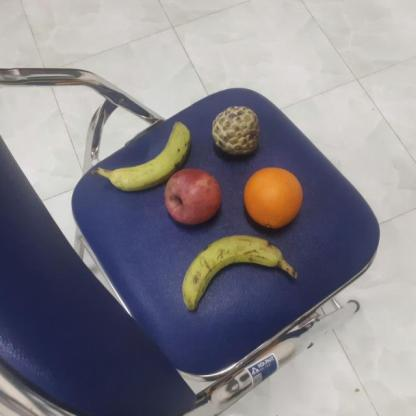annona: (210, 104, 260, 159)
apple: (162, 166, 225, 226)
banana: (181, 231, 290, 312), (108, 118, 197, 192)
orange: (242, 162, 305, 232)
